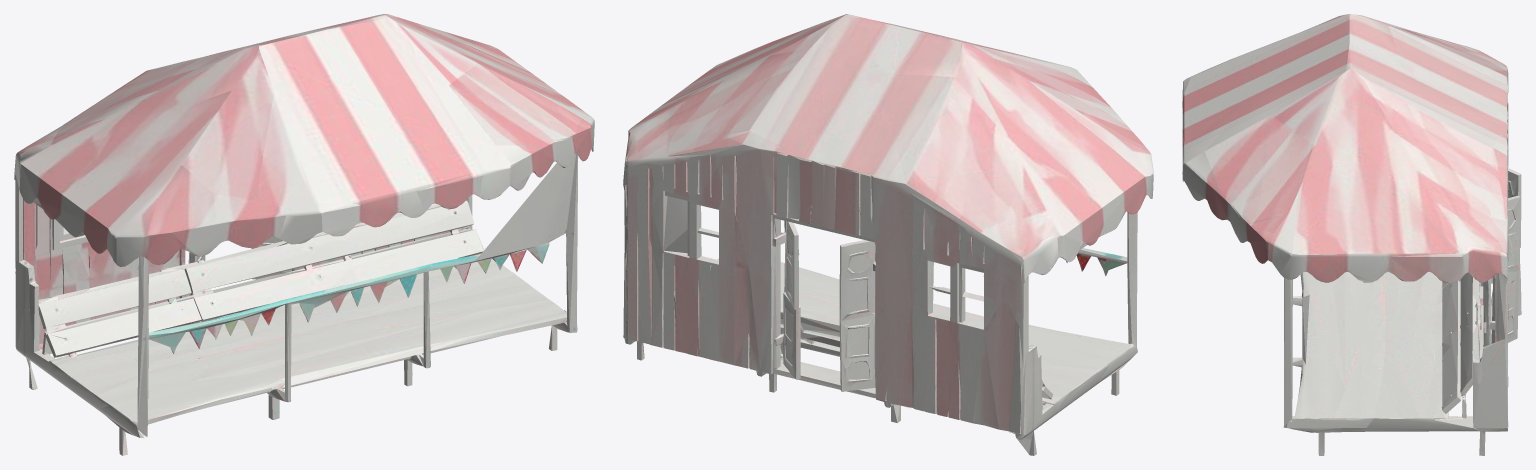
File: grandstand.glb
The picture shows the model from 3 angles, left to right: view 1: azimuth 30°, elevation 25°; view 2: azimuth 150°, elevation 25°; view 3: azimuth 270°, elevation 25°; orthographic projection. The views are drawn at different scales.
Bounding box in the file's own units: 1.9 × 1.36 × 1.31.
Materials: 1 (1 with a texture image).
